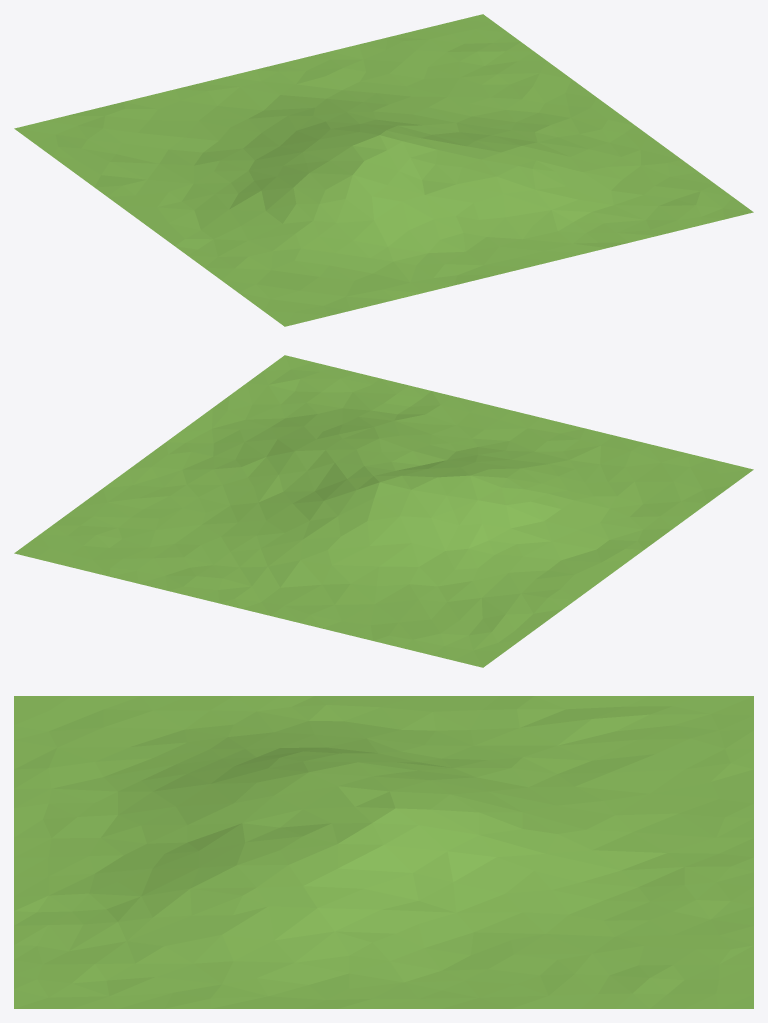
Rendered from MT_Terrain_M_a_07.fbx.
3 renders of one model, top to bottom at view 1: azimuth 30°, elevation 25°; view 2: azimuth 150°, elevation 25°; view 3: azimuth 270°, elevation 25°, orthographic. The views are drawn at different scales.
Parts seen in each view (by area): view 1: MT_Terrain_M_a_07; view 2: MT_Terrain_M_a_07; view 3: MT_Terrain_M_a_07.
Boxes of the visible parts, left/top/right/bottom form: MT_Terrain_M_a_07: left=14, top=14, right=753, bottom=326; MT_Terrain_M_a_07: left=14, top=355, right=753, bottom=667; MT_Terrain_M_a_07: left=14, top=696, right=753, bottom=1008.
Size of the model in its own units: 5000 by 337 by 5000.
